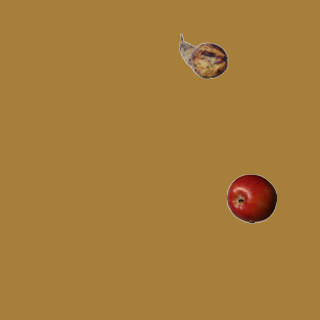Apple Braeburn: (226, 173, 276, 223)
Pear Abate: (178, 31, 228, 81)
